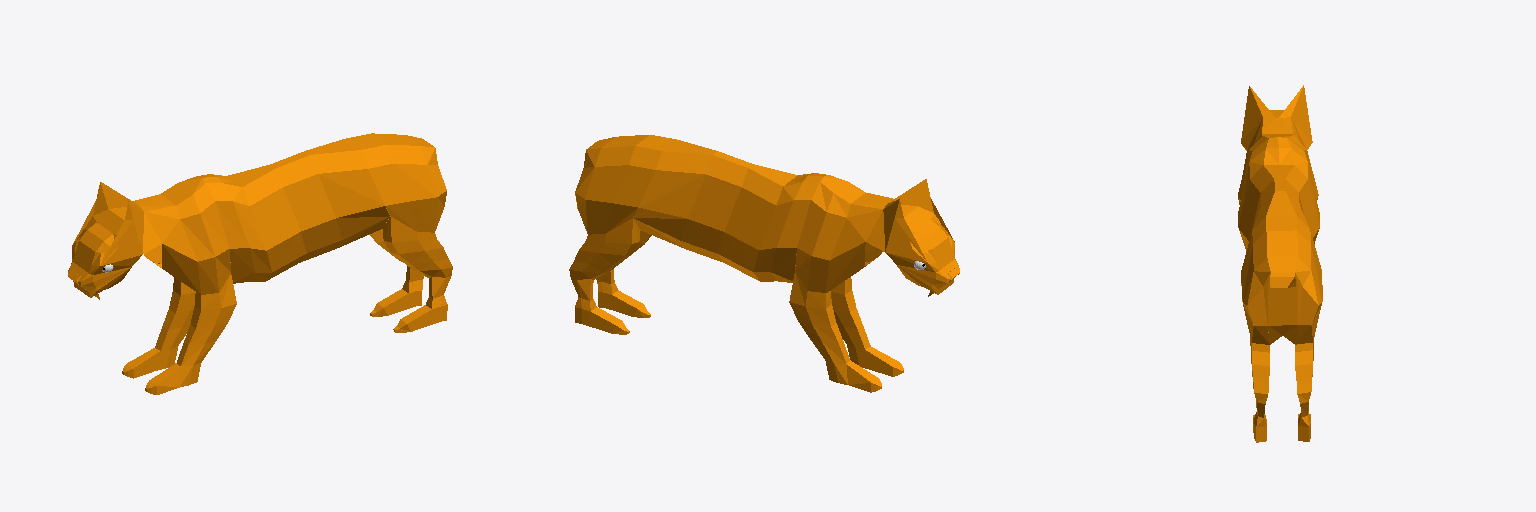
3 views of the same model, side by side, from view 1: azimuth 30°, elevation 25°; view 2: azimuth 150°, elevation 25°; view 3: azimuth 270°, elevation 25° (orthographic).
Visible parts, largest first — view 1: polySurface2; view 2: polySurface2; view 3: polySurface2.
Boxes of the visible parts, <box> form: polySurface2: <box>68,133,452,394</box>; polySurface2: <box>569,135,959,392</box>; polySurface2: <box>1238,85,1322,442</box>.
Bounding box in the file's own units: 2.31 × 1.2 × 0.4594.
7 materials, 2 textured.